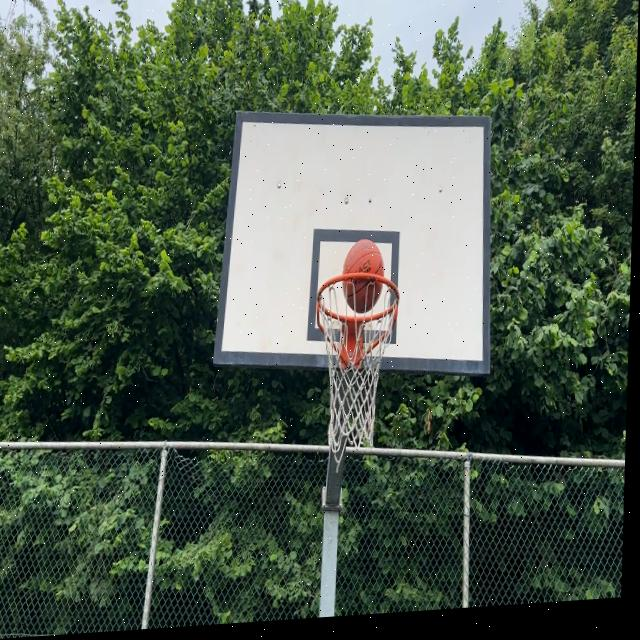rebound_hit: (342, 237, 385, 312)
